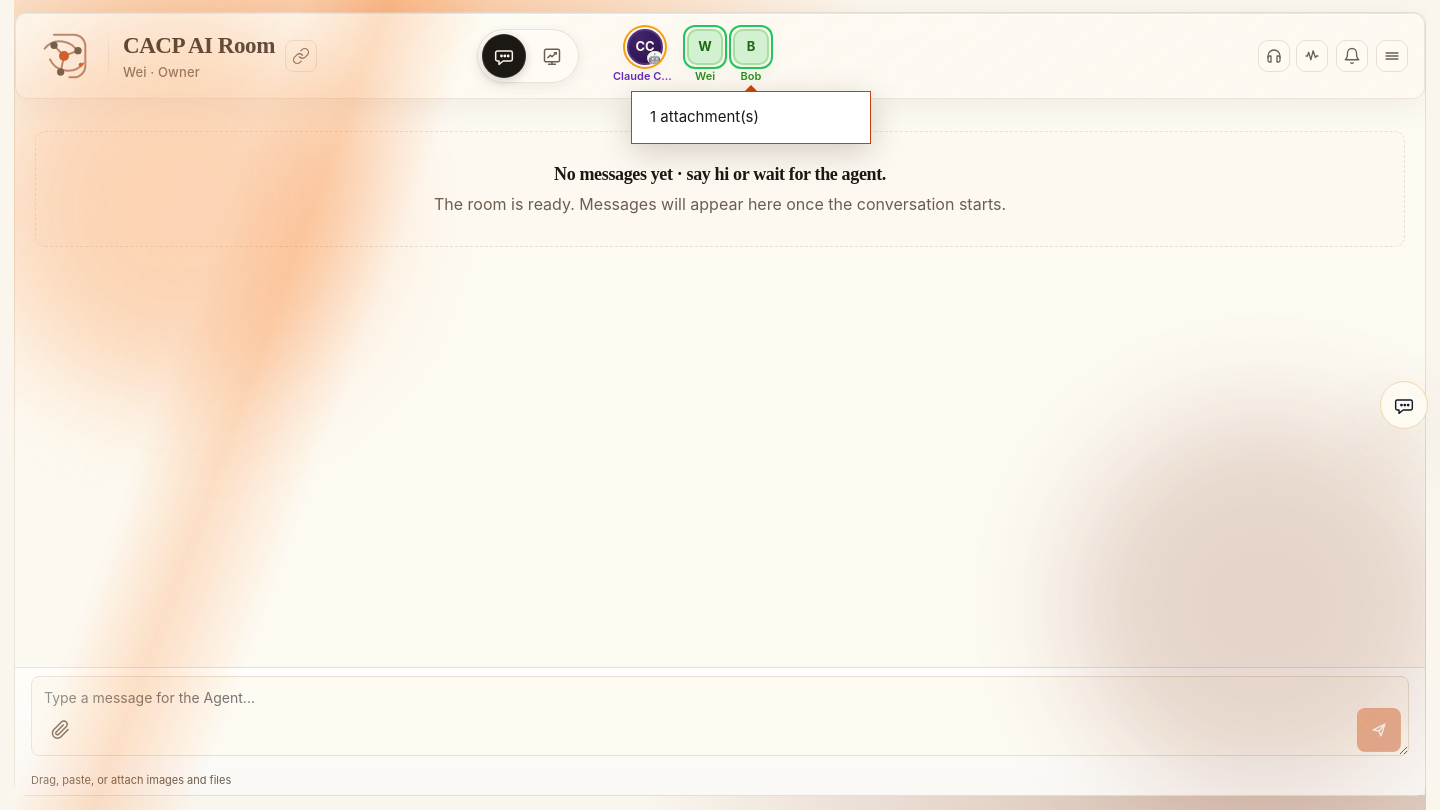
Test: Workspace Orbit bubbles › summarizes attachment-only notes and opens the focused note when clicked
Expected: the text with class "orbit-bubble__text" shows "1 attachment", [650, 107, 759, 126]
Click the button with aria-label "Open discussion". click: (751, 117)
box: [631, 91, 871, 144]
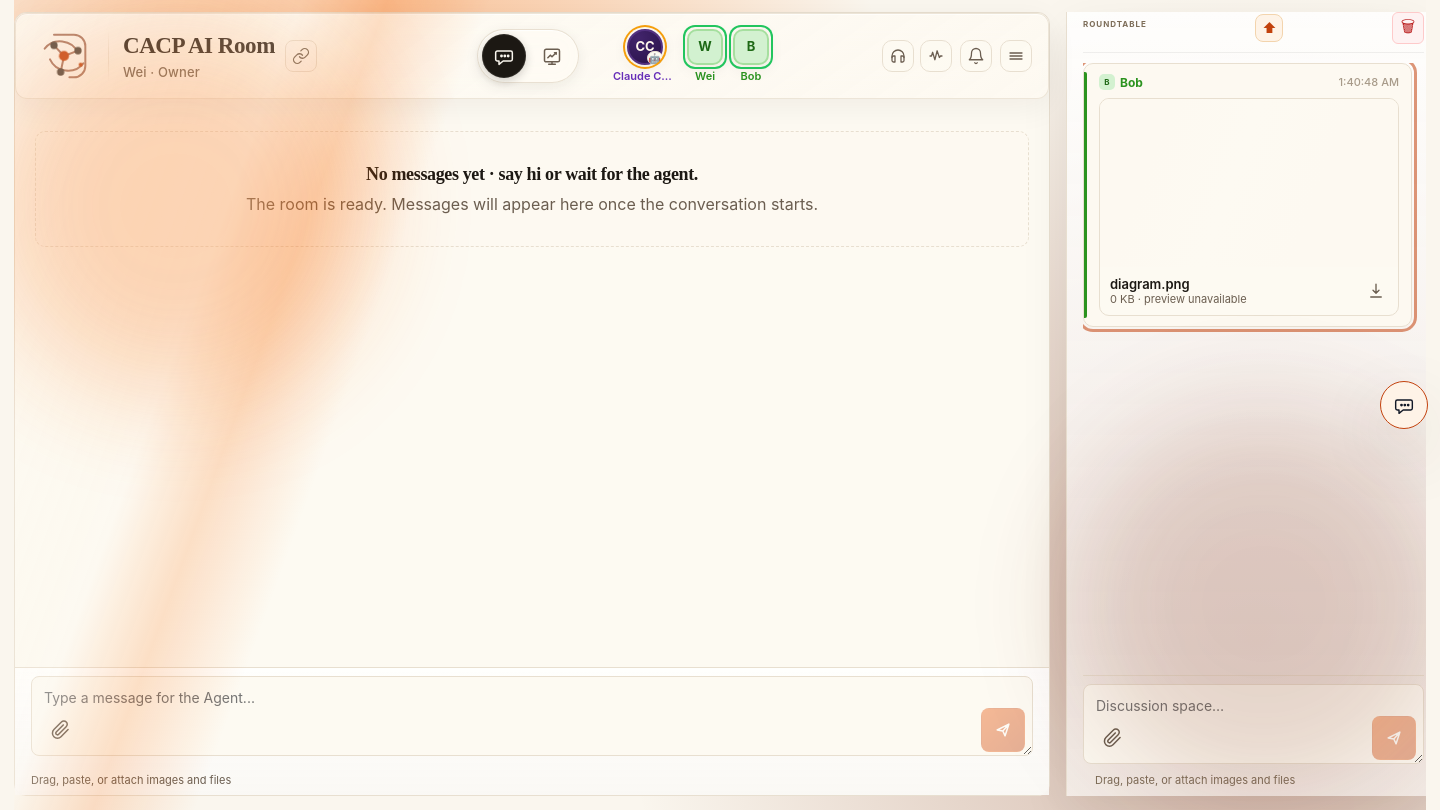
Expected: the element with test id "orbit-composer" is shown, [1083, 675, 1424, 796]
